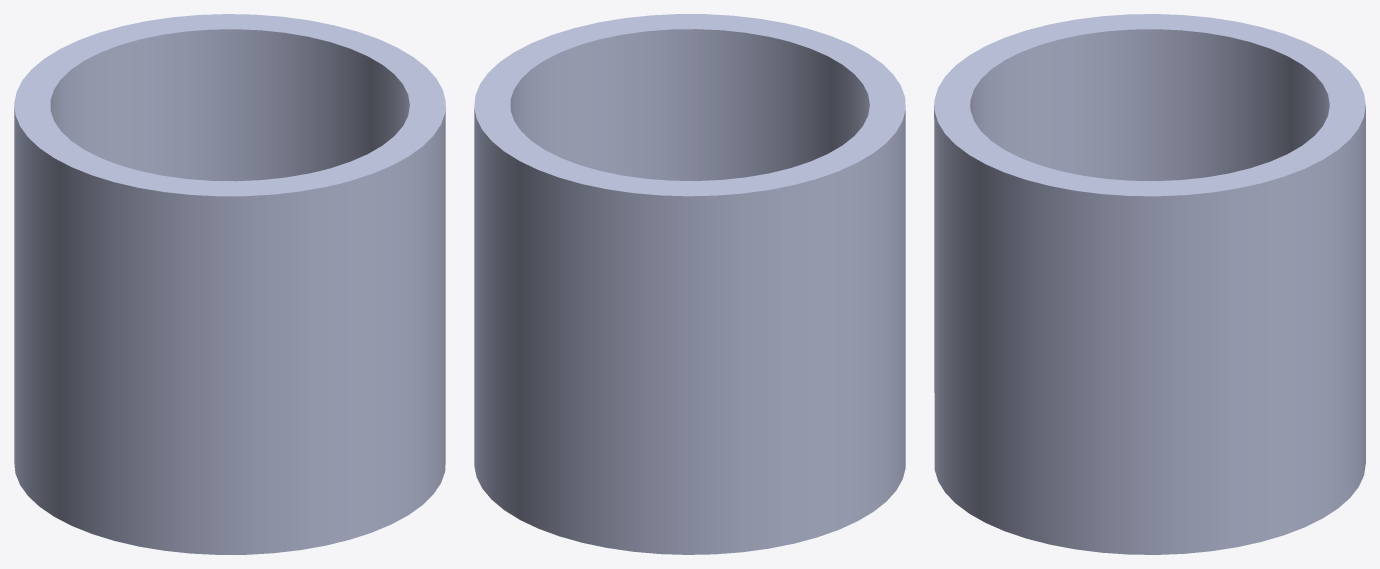
Rendered from circular pool.fbx.
3 renders of one model, left to right at view 1: azimuth 30°, elevation 25°; view 2: azimuth 150°, elevation 25°; view 3: azimuth 270°, elevation 25°, orthographic.
Parts seen in each view (by area): view 1: color; view 2: color; view 3: color.
Part boxes in pixels (x1,y1,x2,y2): color: (14,14,445,554); color: (474,14,905,554); color: (934,14,1365,554).
Size of the model in its own units: 11.99 by 11 by 12.
